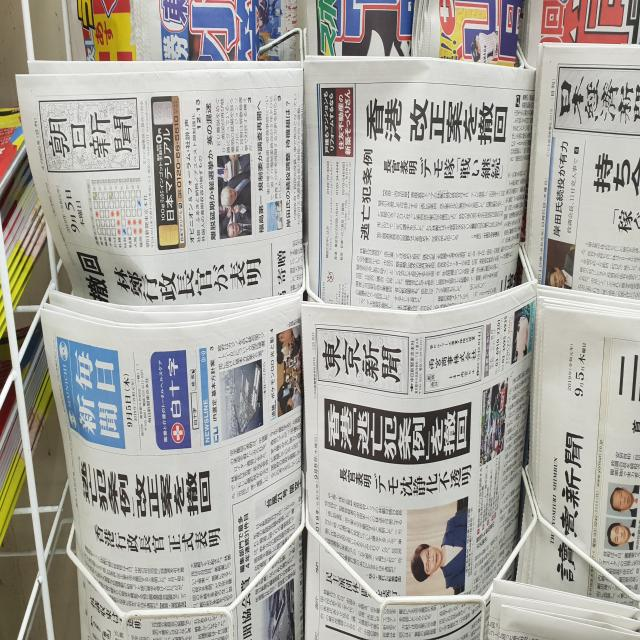newspaper: (46, 285, 301, 636), (302, 272, 533, 638), (25, 57, 302, 296), (296, 58, 534, 297), (534, 271, 640, 640), (532, 36, 640, 285)
